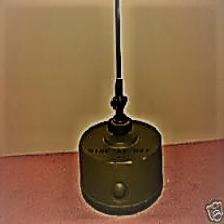M21: (76, 74, 174, 221)
